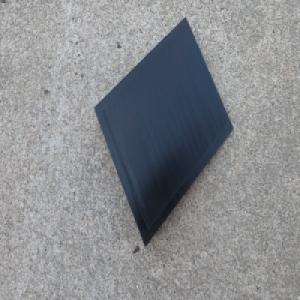PlasticPart: (93, 17, 233, 247)
